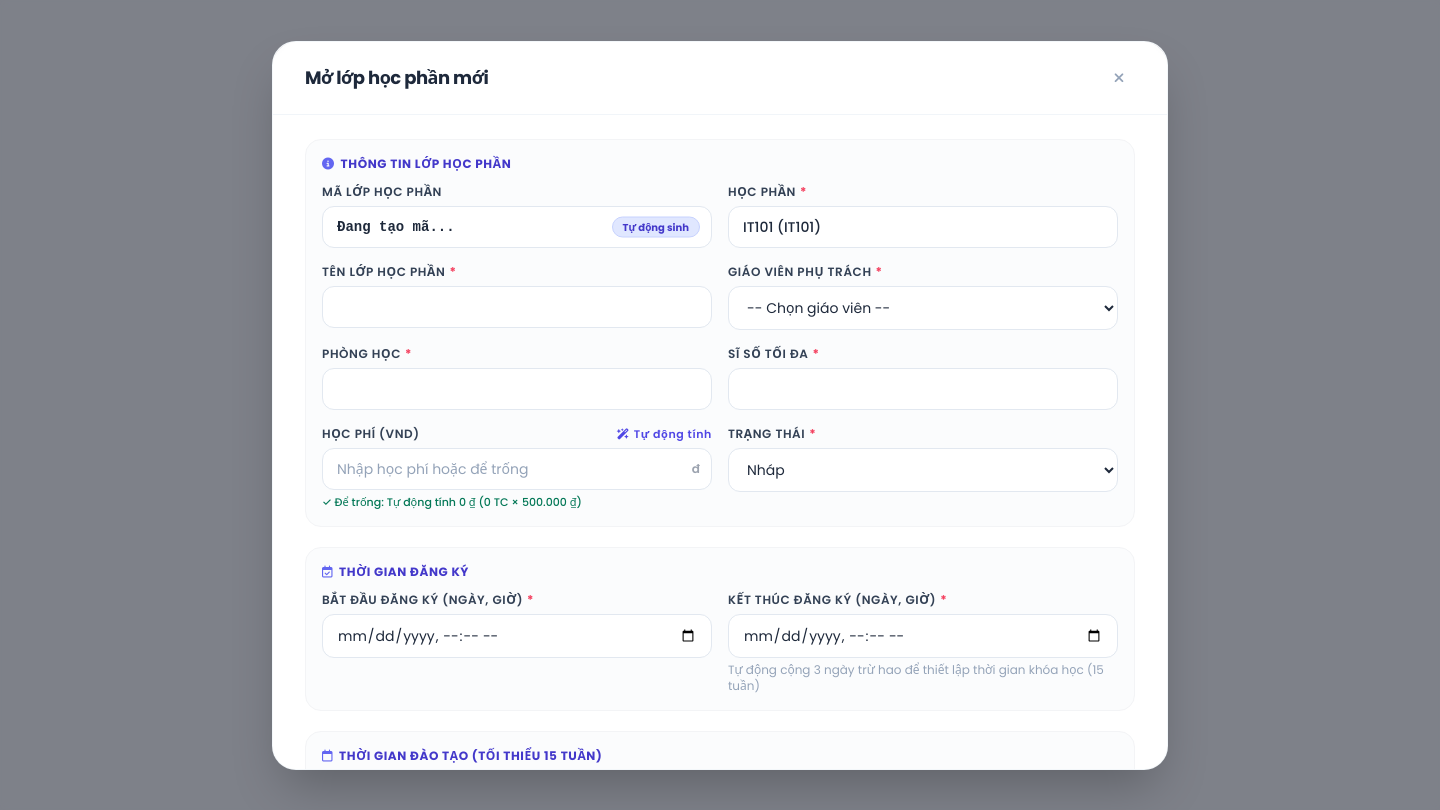
ClassFormModal registration date-time picker & validation › automatically calculates studyStart (+3 days buffer) and studyEnd (+15 weeks) when registrationEnd is chosen
Type "2026-11-20T17:45" into the field labelled "Kết thúc đăng ký" at (923, 636), box [728, 614, 1118, 658]
(page scrolled)
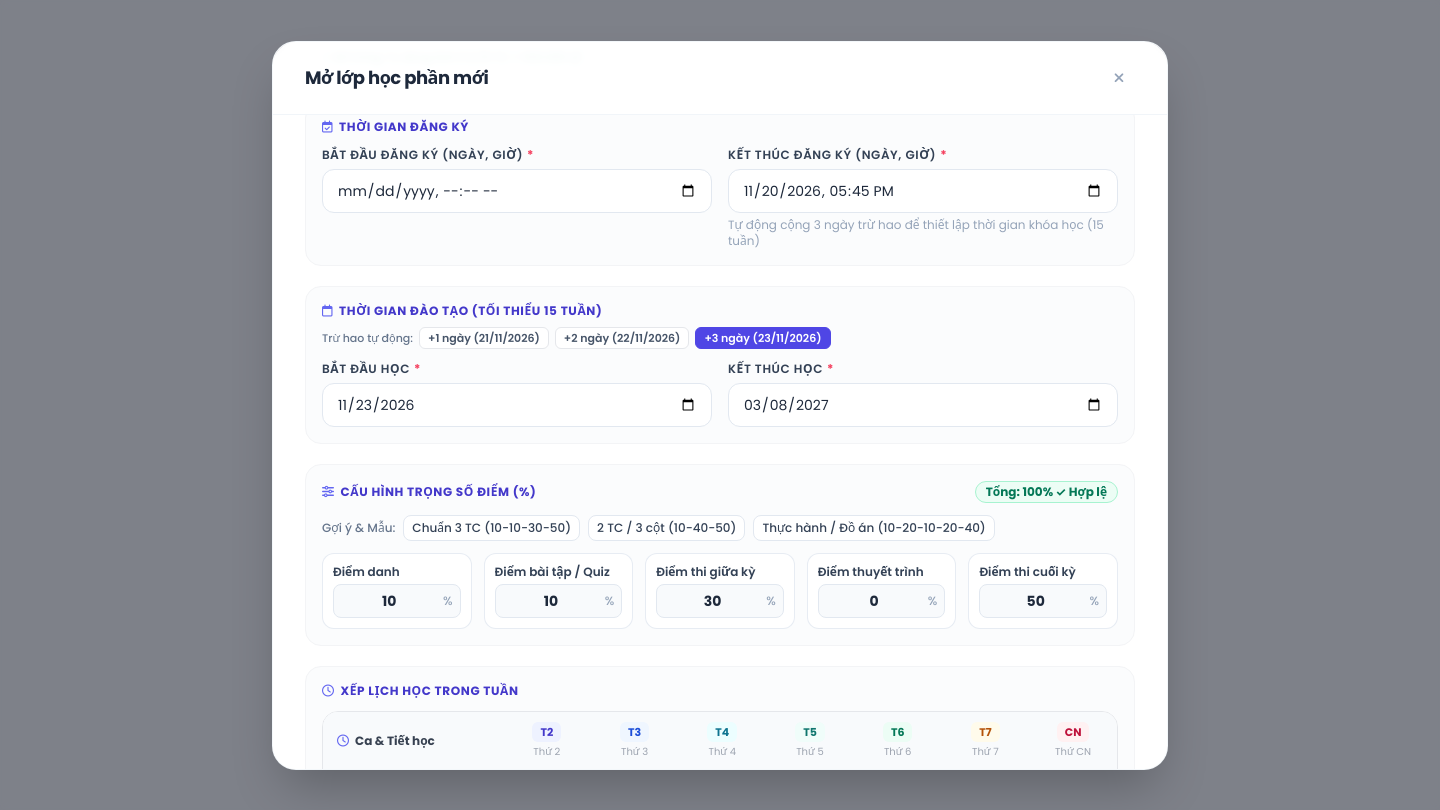
Expected: the date field labelled "Bắt đầu học*" holds "2026-11-23", [322, 383, 712, 427]
Expected: the date field labelled "Kết thúc học*" holds "2027-03-08", [728, 383, 1118, 427]
